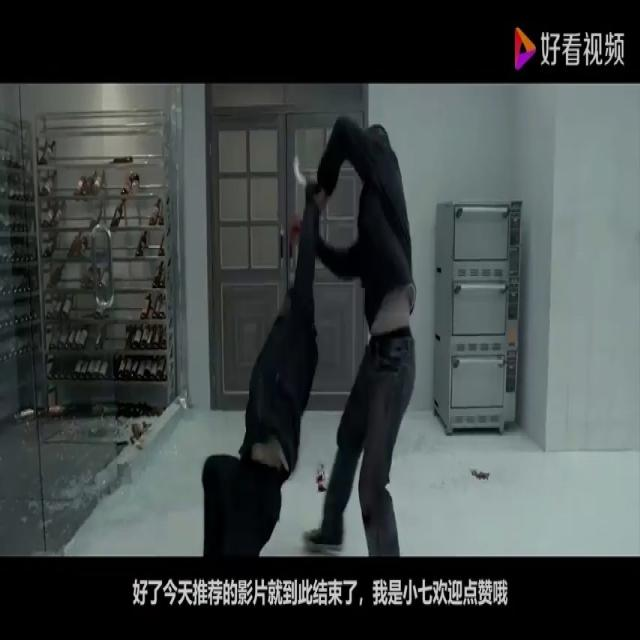fight: (198, 109, 420, 556)
